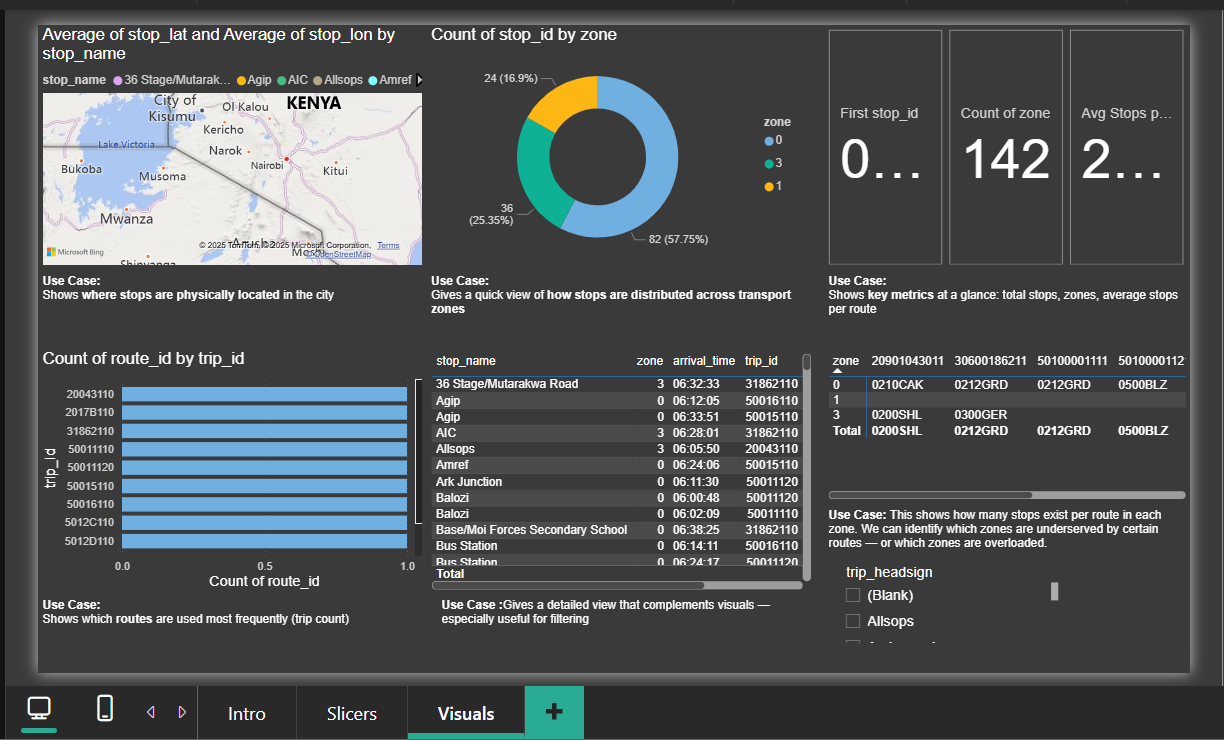

The page's visual inventory and layout, read from the dashboard file:
{"tool":"powerbi","page":{"name":"Visuals","canvas":[1280,720],"ordinal":2},"visuals":[{"type":"filledMap","fields":{"Y":["Avg(stops.stop_lat)"],"X":["Avg(stops.stop_lon)"],"Series":["stops.zone"]},"box":[0,0,431.7,271.7],"z":0},{"type":"barChart","fields":{"Y":["CountNonNull(trips.route_id)"],"Category":["trips.trip_id"]},"box":[0,360,431.7,271.7],"z":1000},{"type":"donutChart","fields":{"Y":["CountNonNull(stops.stop_id)"],"Category":["stops.zone"]},"box":[431.7,0,431.7,271.7],"z":2000},{"type":"tableEx","fields":{"Values":["stops.stop_name","stops.zone","StopTimes.arrival_time","StopTimes.trip_id","Sum(StopTimes.stop_sequence)"]},"box":[432,360,432,272],"z":3000},{"type":"cardVisual","fields":{"Data":["Min(stops.stop_id)","CountNonNull(stops.zone)","trips.Avg Stops per Route"]},"box":[873.3,0,406.7,271.7],"z":4000},{"type":"pivotTable","fields":{"Rows":["stops.zone"],"Columns":["routes.route_id"],"Values":["Min(stops.stop_id)"]},"box":[873.3,360,406.7,171.7],"z":5000},{"type":"textbox","box":[873.3,531.7,406.7,71.7],"z":6000},{"type":"textbox","box":[873.3,271.7,406.7,60],"z":7000},{"type":"textbox","box":[443.3,631.7,420,60],"z":8000},{"type":"textbox","box":[431.7,271.7,431.7,60],"z":9000},{"type":"textbox","box":[0,631.7,408.3,60],"z":10000},{"type":"textbox","box":[0,271.7,431.7,60],"z":11000}]}

Visuals, with their boxes on the page's 1280x720 design canvas (x1, y1, x2, y2). These are canvas units, not pixel positions in the 1224x740 screenshot, which may show the page scaled, cropped or inside an application window:
filledMap - Avg(stops.stop_lat) x Avg(stops.stop_lon): x1=0 y1=0 x2=432 y2=272
barChart - CountNonNull(trips.route_id) x trips.trip_id: x1=0 y1=360 x2=432 y2=632
donutChart - CountNonNull(stops.stop_id) x stops.zone: x1=432 y1=0 x2=863 y2=272
tableEx - stops.stop_name x stops.zone: x1=432 y1=360 x2=864 y2=632
cardVisual - Min(stops.stop_id) x CountNonNull(stops.zone): x1=873 y1=0 x2=1280 y2=272
pivotTable - stops.zone x routes.route_id: x1=873 y1=360 x2=1280 y2=532
textbox: x1=873 y1=532 x2=1280 y2=603
textbox: x1=873 y1=272 x2=1280 y2=332
textbox: x1=443 y1=632 x2=863 y2=692
textbox: x1=432 y1=272 x2=863 y2=332
textbox: x1=0 y1=632 x2=408 y2=692
textbox: x1=0 y1=272 x2=432 y2=332
